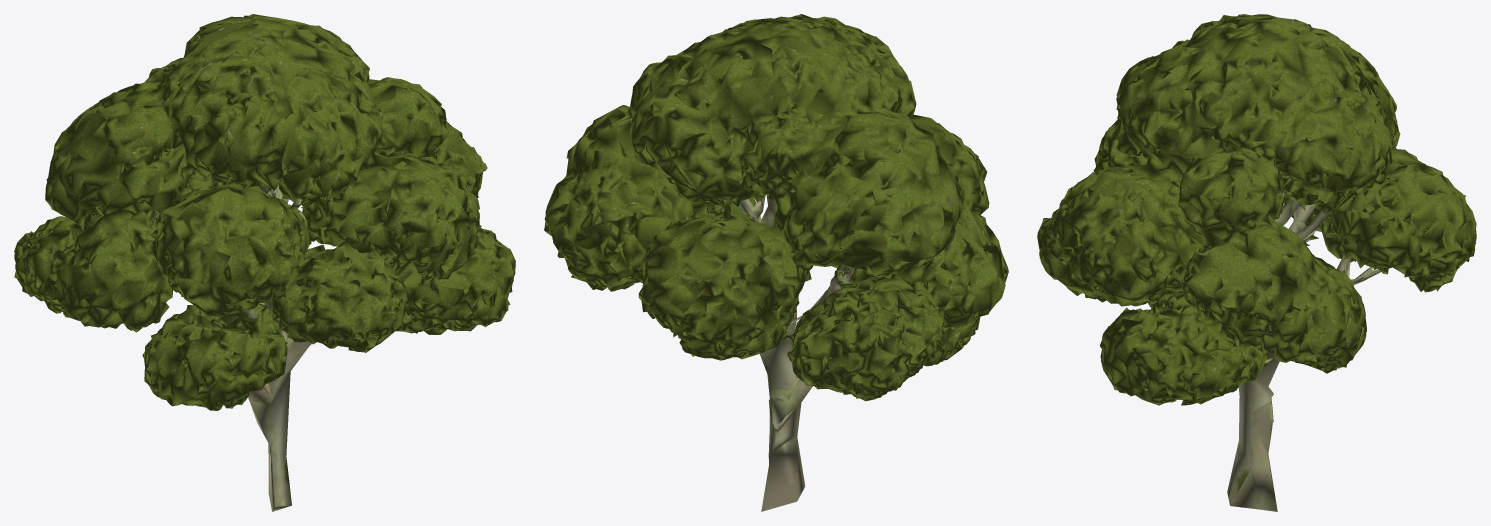
File: haya_alto.glb
3 views of the same model, side by side, from view 1: azimuth 30°, elevation 25°; view 2: azimuth 150°, elevation 25°; view 3: azimuth 270°, elevation 25° (orthographic).
Visible parts, largest first — view 1: alto; view 2: alto; view 3: alto.
Part boxes in pixels (x1=…): alto: x1=14, y1=14, x2=515, y2=511; alto: x1=544, y1=14, x2=1008, y2=511; alto: x1=1037, y1=14, x2=1476, y2=511.
Bounding box in the file's own units: 9.79 × 10.77 × 9.
Materials: 1 (1 with a texture image).
